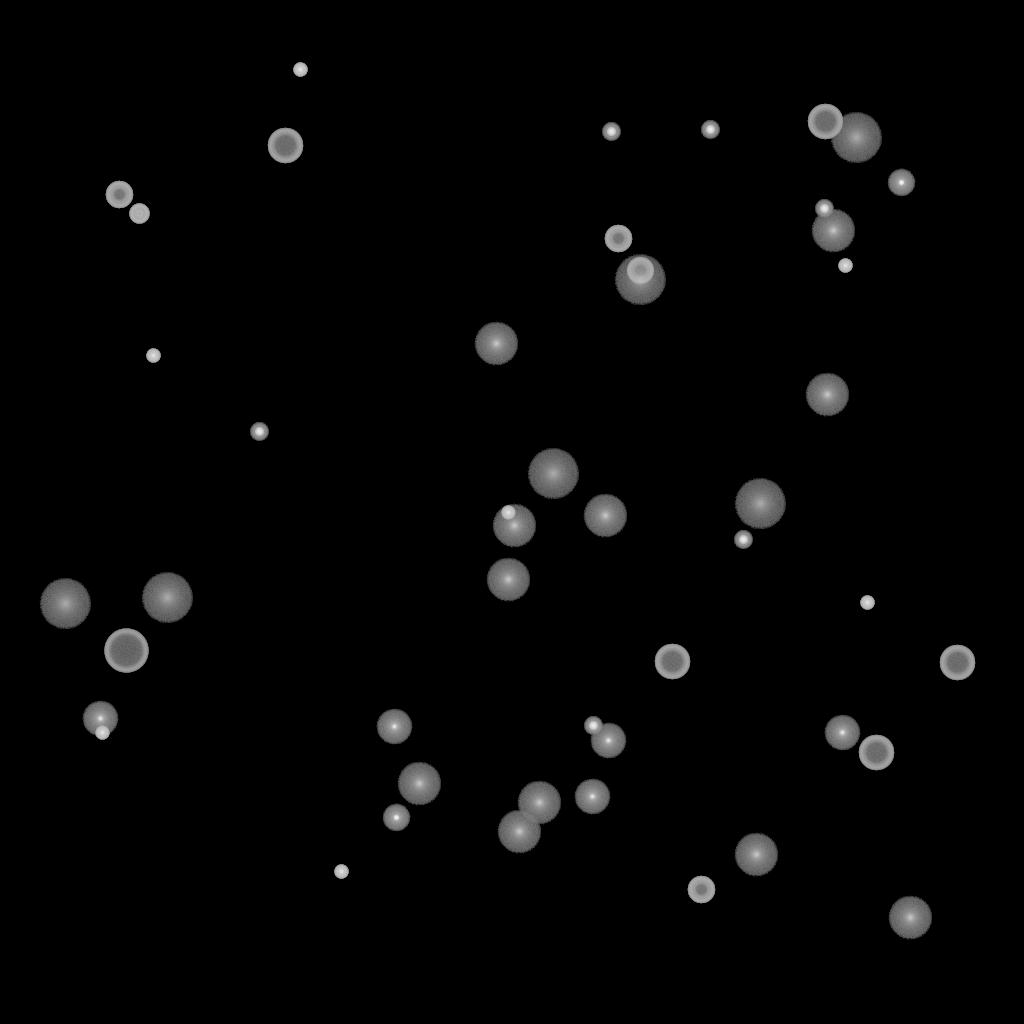depth:-10: (382, 804, 410, 832), (887, 169, 915, 197)
depth:-20: (734, 531, 752, 549), (584, 717, 602, 735), (602, 123, 620, 141), (701, 121, 719, 139), (815, 200, 833, 218), (250, 423, 268, 441)
depth:-30: (293, 63, 307, 77), (146, 349, 160, 363), (501, 506, 515, 520), (95, 726, 109, 740), (334, 865, 348, 879), (838, 259, 852, 273), (860, 596, 874, 610)
depth:-40: (129, 204, 149, 224)
depth:-50: (105, 181, 133, 209), (687, 876, 715, 904), (626, 257, 654, 285), (604, 225, 632, 253)
depth:-60: (807, 104, 843, 140), (267, 128, 303, 164), (939, 645, 975, 681), (654, 644, 690, 680), (858, 735, 894, 771)
depth:-70: (104, 629, 148, 673)
depth:0: (574, 779, 610, 815), (82, 701, 118, 737), (824, 715, 860, 751), (590, 723, 626, 759), (376, 709, 412, 745)
depth:10: (811, 209, 855, 253), (517, 781, 561, 825), (734, 833, 778, 877), (805, 373, 849, 417), (492, 504, 536, 548), (397, 762, 441, 806), (497, 810, 541, 854), (888, 896, 932, 940), (474, 322, 518, 366), (486, 558, 530, 602), (583, 494, 627, 538)
depth:20: (141, 573, 193, 623), (830, 113, 882, 163), (734, 479, 786, 529), (39, 579, 91, 629), (614, 255, 666, 305), (527, 449, 579, 499)
